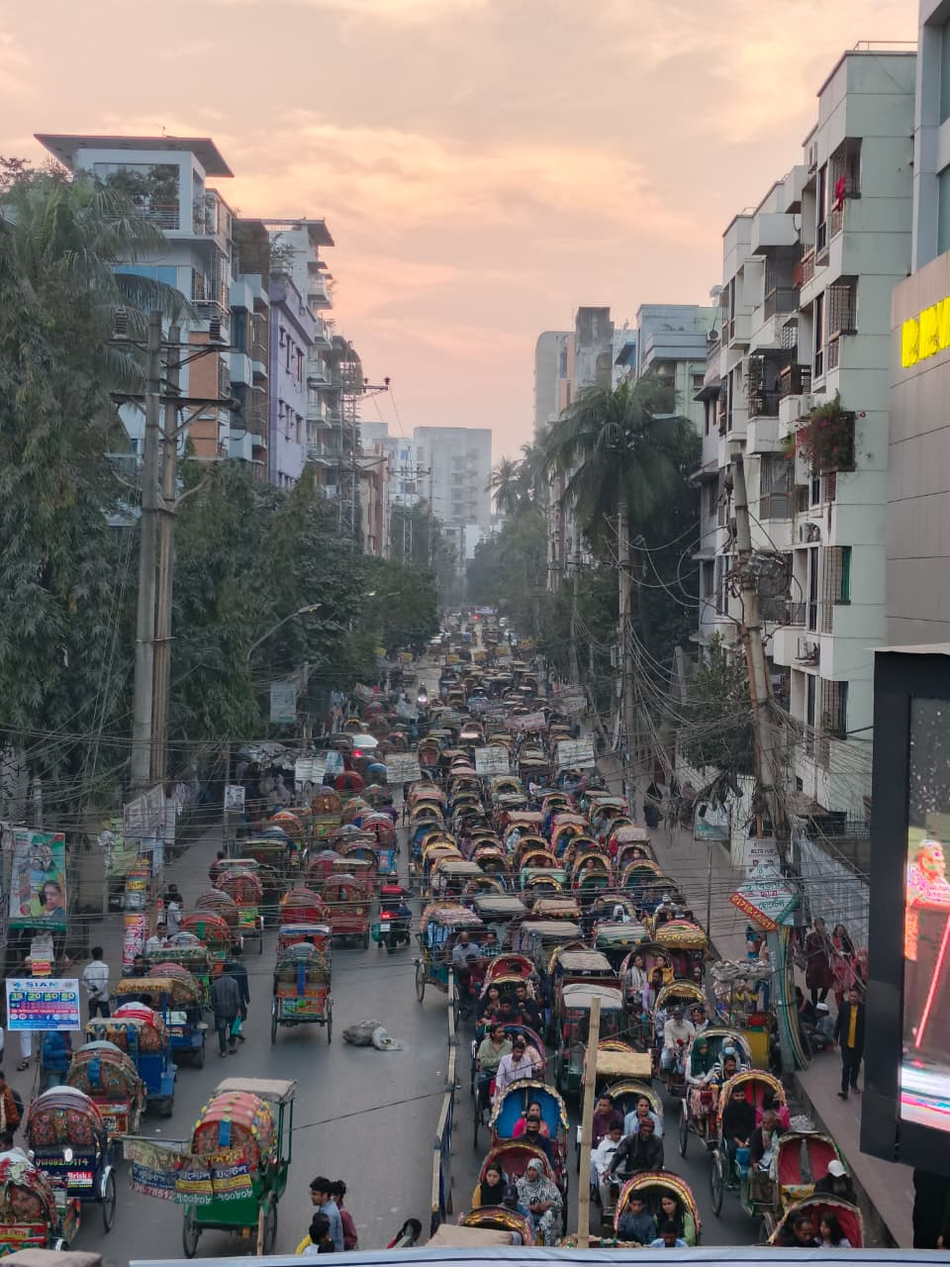Bikes: (370, 867, 417, 956)
auto-ricksaw: (465, 950, 566, 1239), (181, 1063, 300, 1263), (272, 884, 340, 1045)
